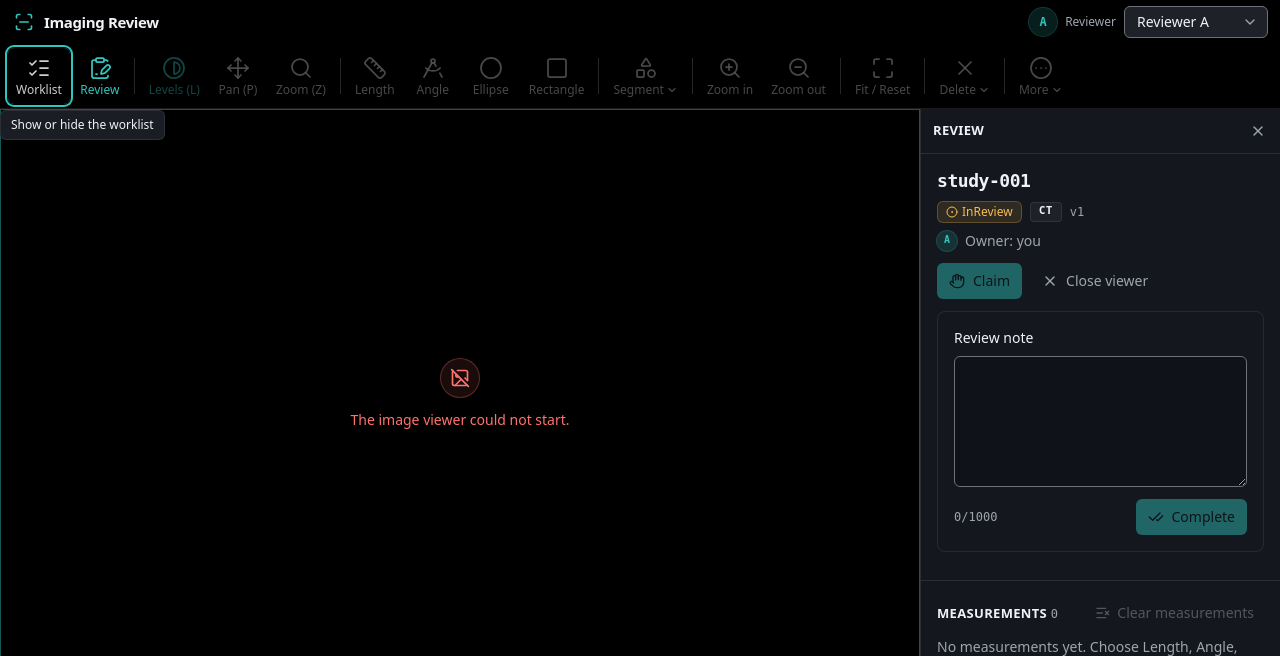
StudyPanel › network error on complete keeps the draft and shows a retry message
The width and height of the screenshot is (1280, 656).
Type "note A" into the text box labelled "Review note" at [1100, 421], box left=954, top=356, right=1247, bottom=487
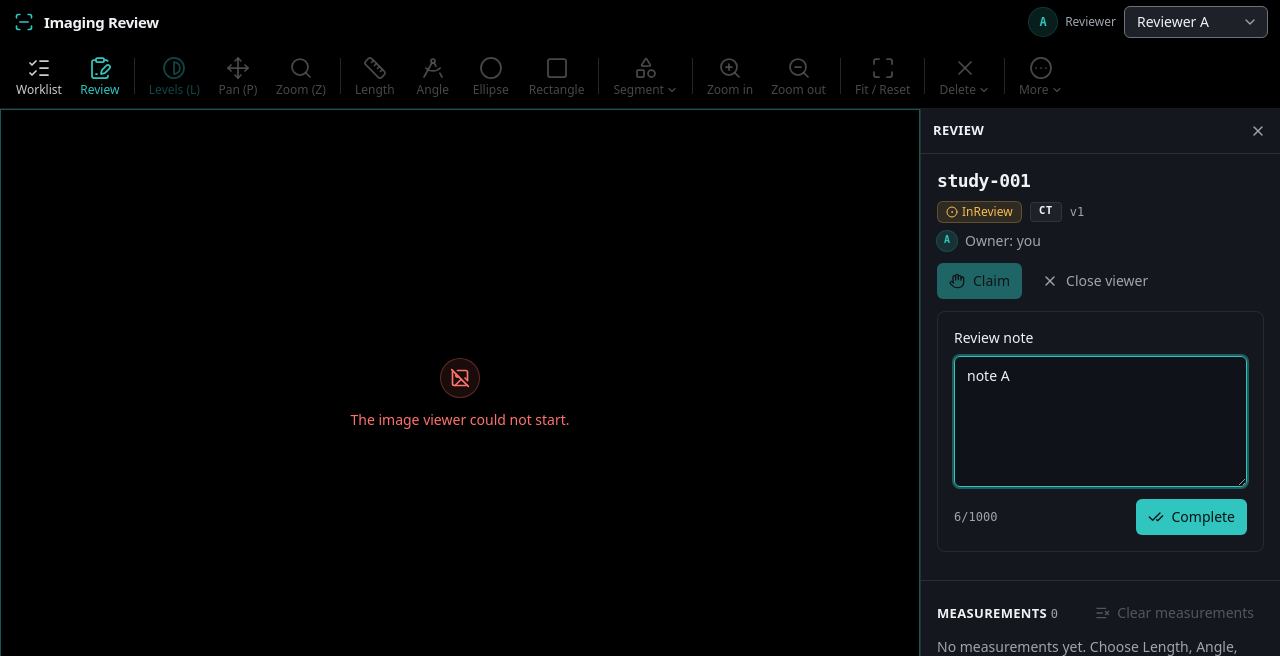
Click the button "Complete" at [1191, 517], box left=1136, top=499, right=1247, bottom=535
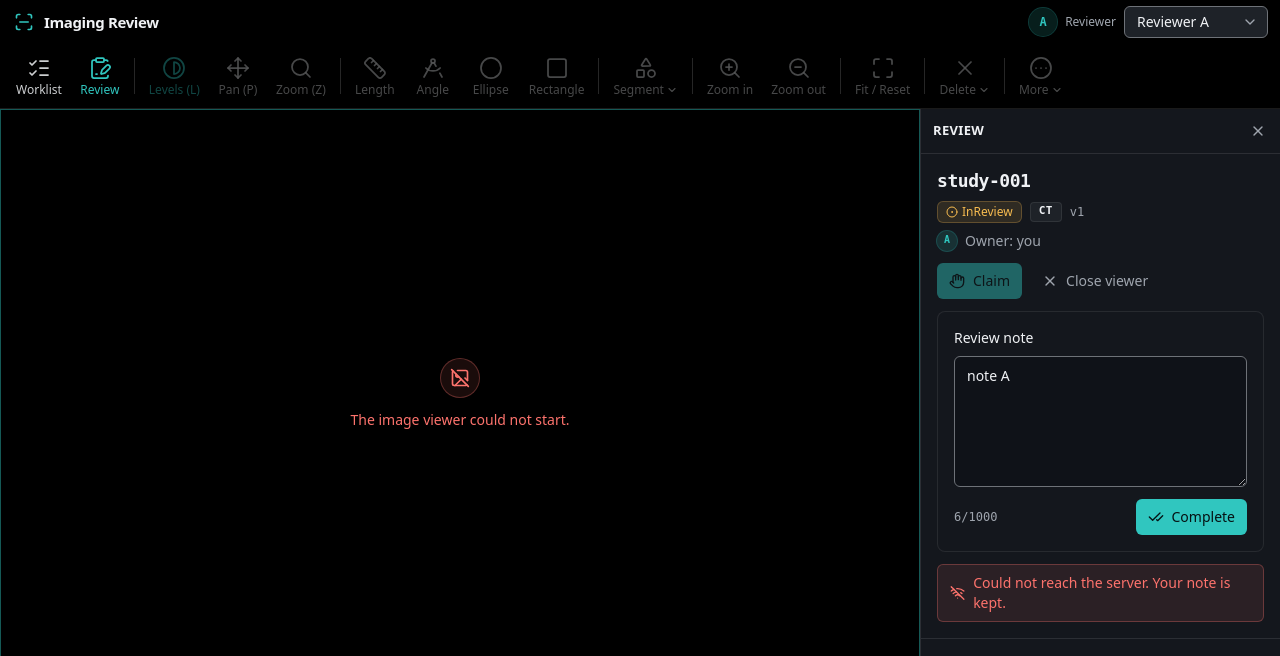
Check: the button "Complete" is enabled, box left=1136, top=499, right=1247, bottom=535
Check: the text "Could not reach the server. Your note is kept." is shown, box left=937, top=564, right=1264, bottom=622
